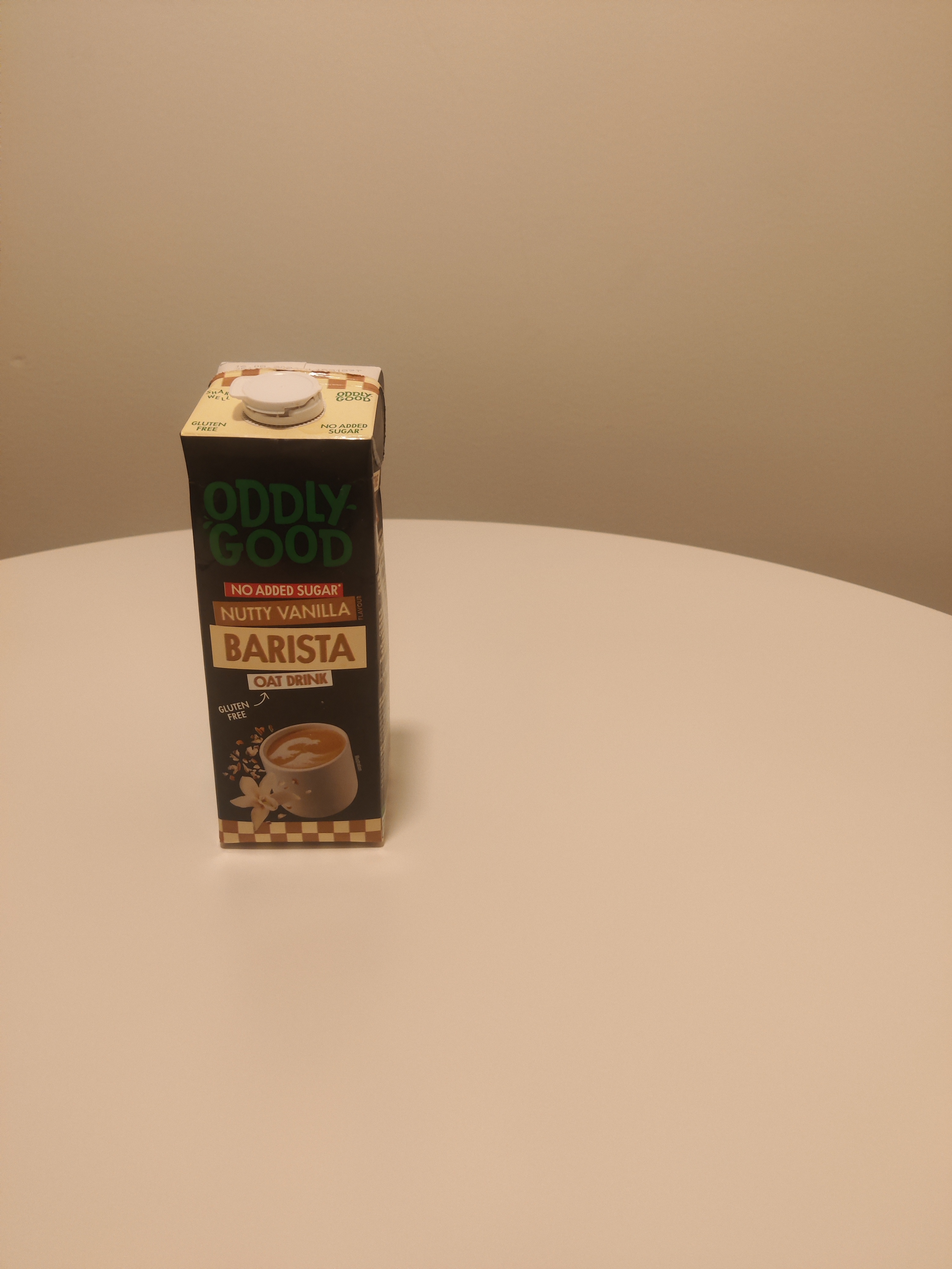Dryckeskartong: (178, 358, 389, 849)
